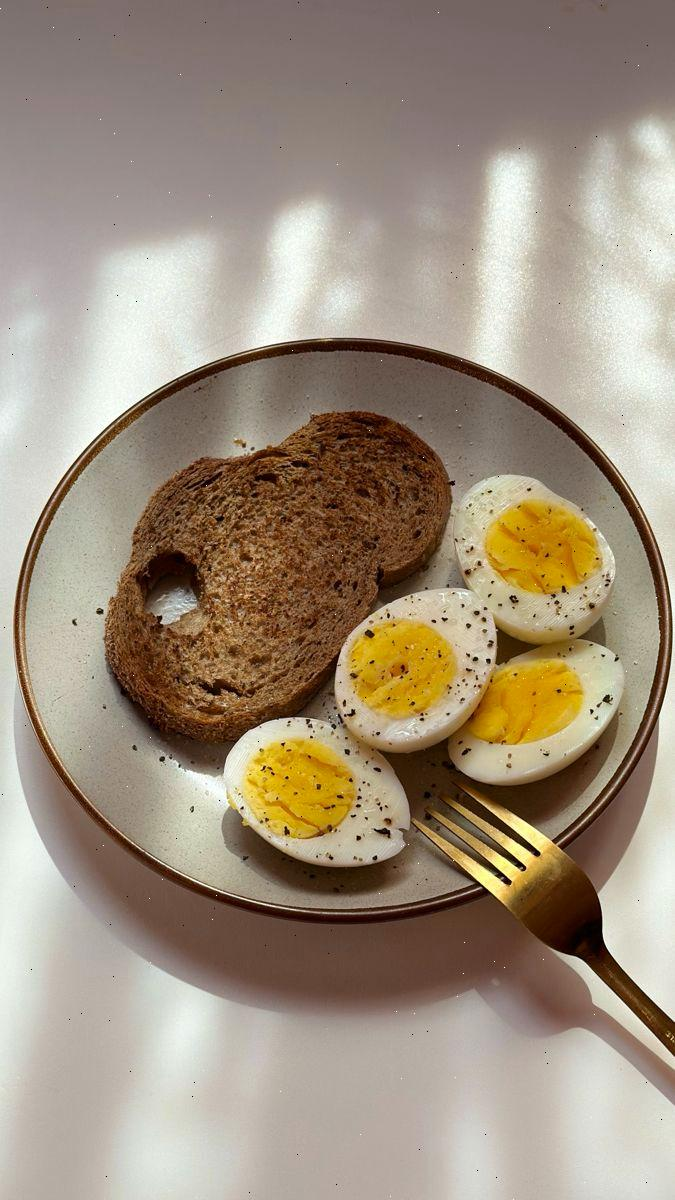eggs: (247, 518, 594, 864)
